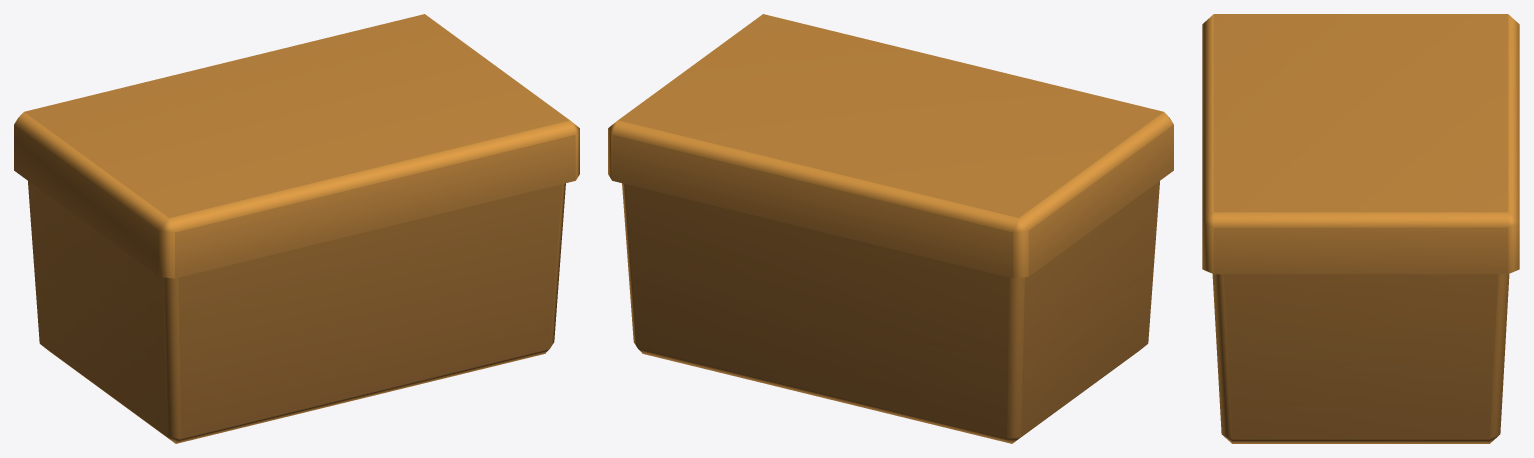
File: giftbox_015.fbx
3 views of the same model, side by side, from view 1: azimuth 30°, elevation 25°; view 2: azimuth 150°, elevation 25°; view 3: azimuth 270°, elevation 25° (orthographic).
Visible parts, largest first — view 1: giftbox_015; view 2: giftbox_015; view 3: giftbox_015.
Part boxes in pixels (x1=…): giftbox_015: x1=14, y1=14, x2=579, y2=443; giftbox_015: x1=608, y1=14, x2=1173, y2=443; giftbox_015: x1=1202, y1=14, x2=1519, y2=443.
Size of the model in its own units: 394 by 254 by 212.
